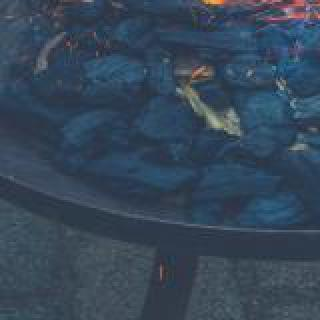fire: (110, 0, 320, 20)
